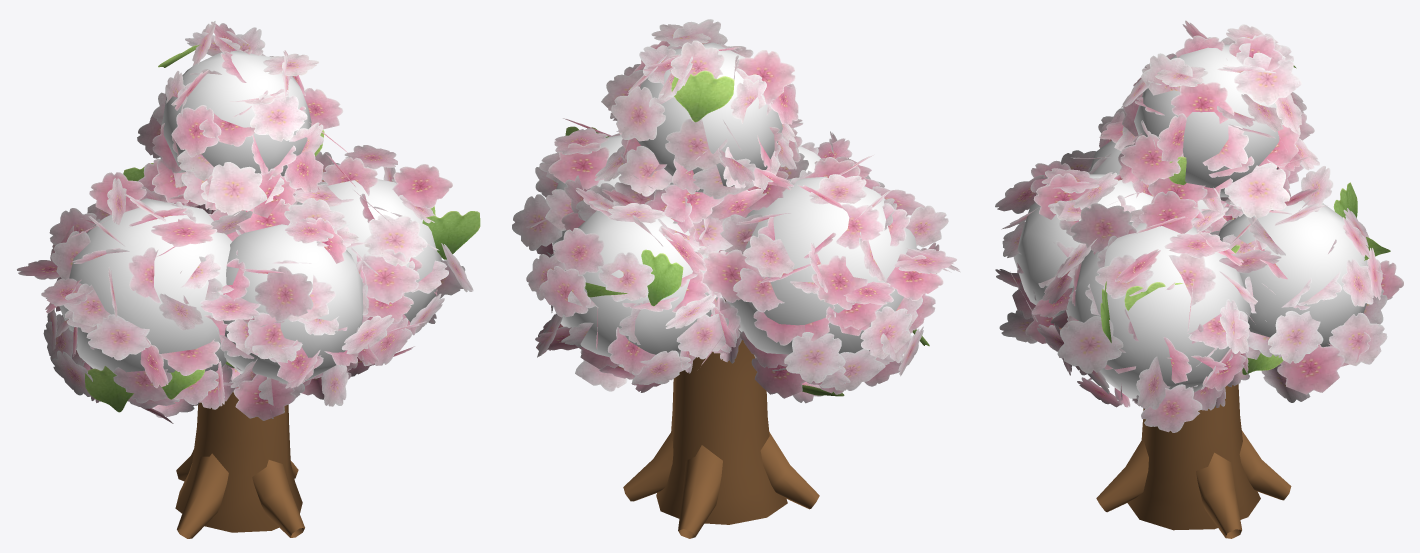
The model's file is tree-round-blossom.glb.
3 renders of one model, left to right at view 1: azimuth 30°, elevation 25°; view 2: azimuth 150°, elevation 25°; view 3: azimuth 270°, elevation 25°, orthographic. The views are drawn at different scales.
Visible parts, largest first — view 1: Crown, Hull, Trunk; view 2: Crown, Hull, Trunk; view 3: Crown, Hull, Trunk.
Boxes of the visible parts, bbox=[...] form: Crown: bbox=[17, 21, 480, 423]; Hull: bbox=[59, 50, 441, 383]; Trunk: bbox=[175, 391, 304, 538]; Crown: bbox=[512, 19, 960, 403]; Hull: bbox=[552, 42, 916, 367]; Trunk: bbox=[623, 340, 819, 538]; Crown: bbox=[995, 20, 1403, 432]; Hull: bbox=[1013, 45, 1367, 398]; Trunk: bbox=[1096, 384, 1291, 538].
Size of the model in its own units: 2.72 by 2.96 by 2.31.
Materials: 4 (1 with a texture image).
